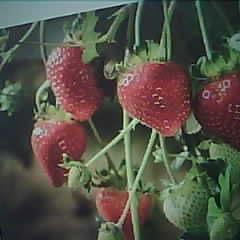straw-ripe: (120, 59, 192, 134), (46, 42, 104, 121), (32, 120, 86, 187)
straw-unripe: (163, 179, 212, 233), (68, 163, 91, 190)
